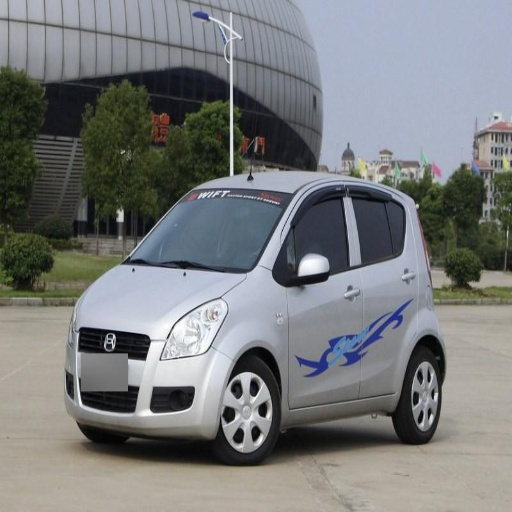front_bumper: (64, 324, 233, 434)
front_glass: (124, 192, 289, 271)
front_left_door: (275, 184, 361, 408)
